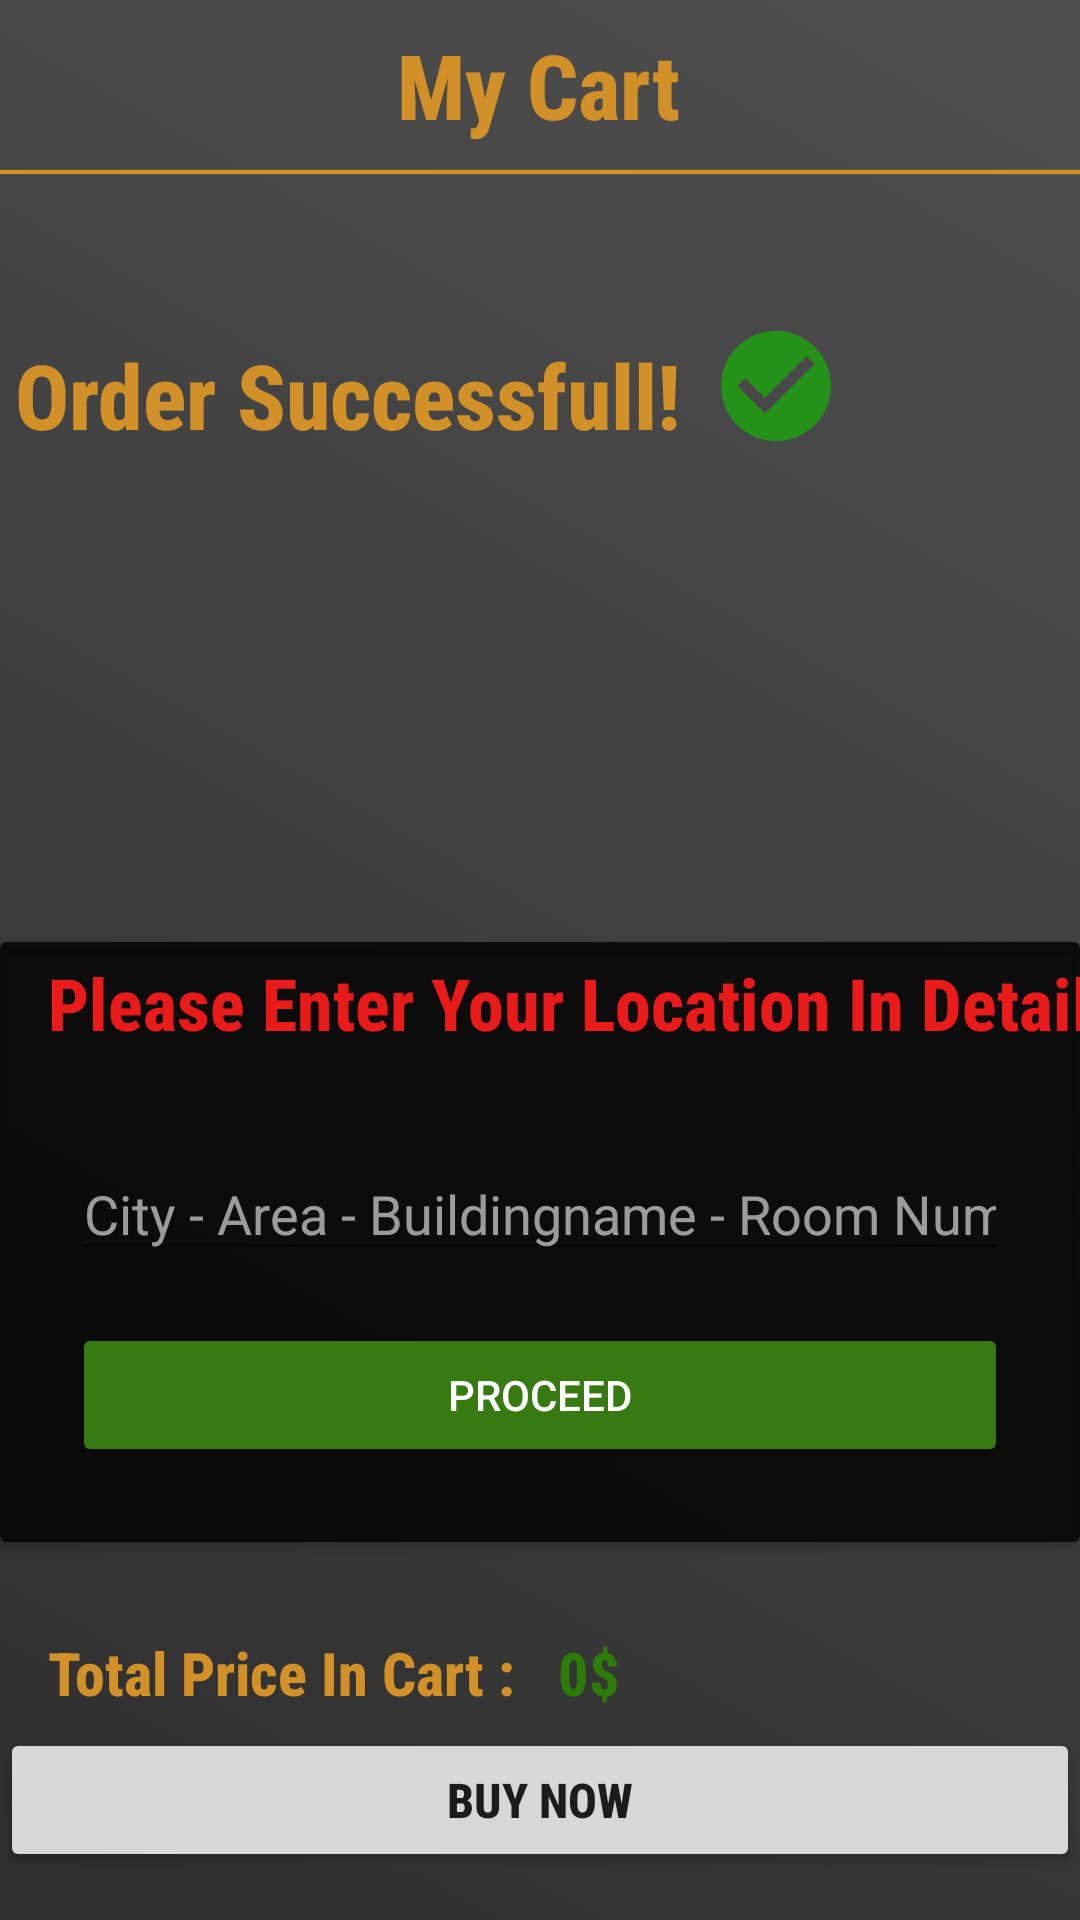

Where to tap for icons on this 1080 × 1920 app screen, as (x=x, y=y):
check circle: (x=776, y=386)
